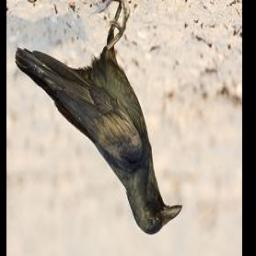Crow: (14, 0, 185, 238)
